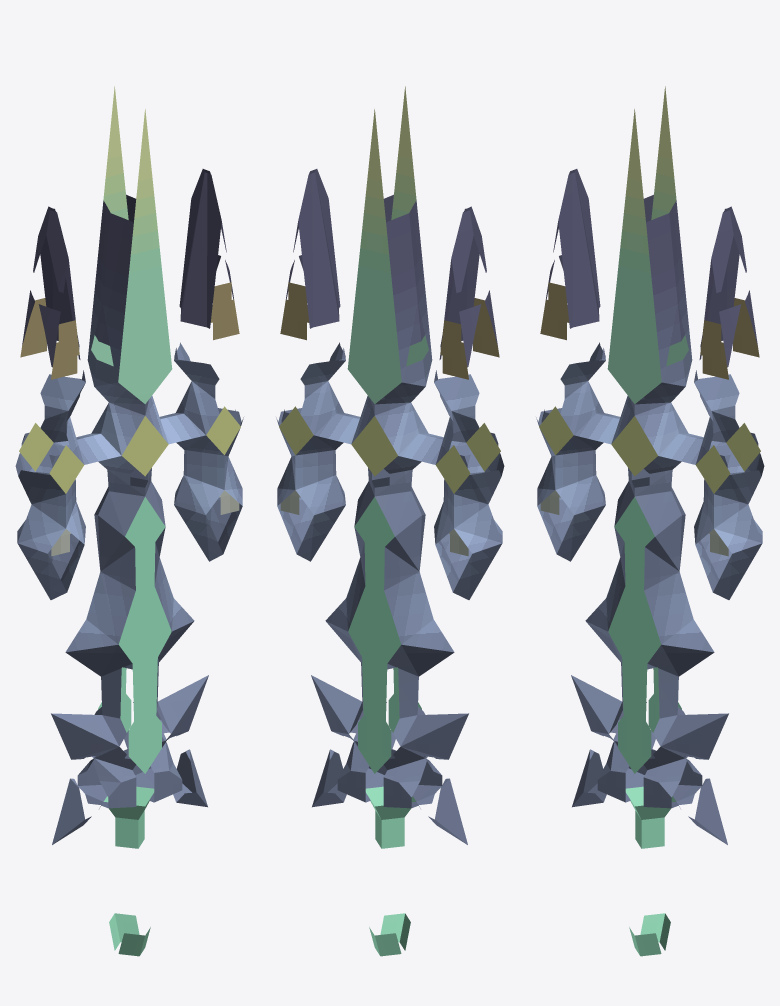
The model's file is twilight.obj.
3 views of the same model, side by side, from view 1: azimuth 30°, elevation 25°; view 2: azimuth 150°, elevation 25°; view 3: azimuth 330°, elevation 25° (orthographic).
Size of the model in its own units: 39.51 by 159 by 9.
